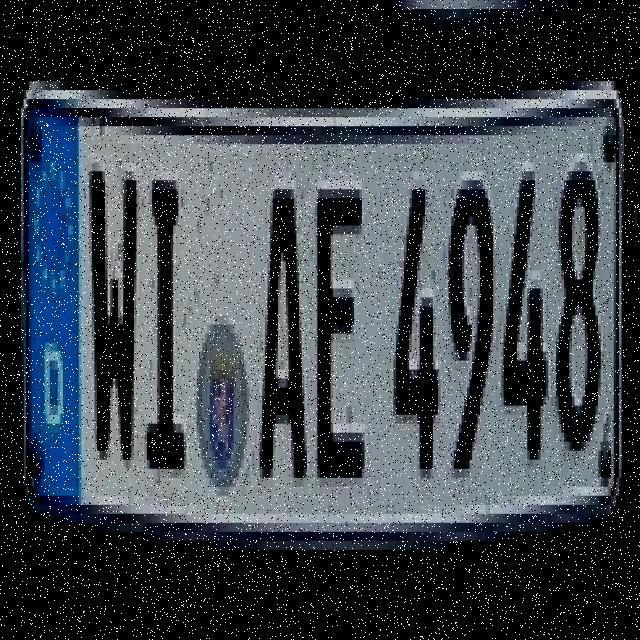LicensePlate: (19, 73, 623, 576)
